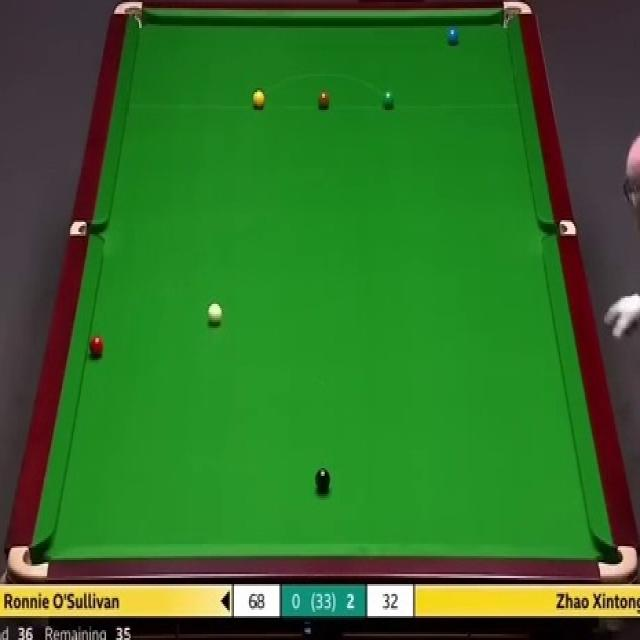black-ball: (315, 467, 331, 493)
blue-ball: (446, 27, 460, 46)
brown-ball: (317, 92, 330, 109)
green-ball: (382, 88, 396, 112)
red-ball: (89, 335, 105, 358)
white-ball: (206, 300, 223, 326)
yellow-ball: (252, 89, 266, 110)
